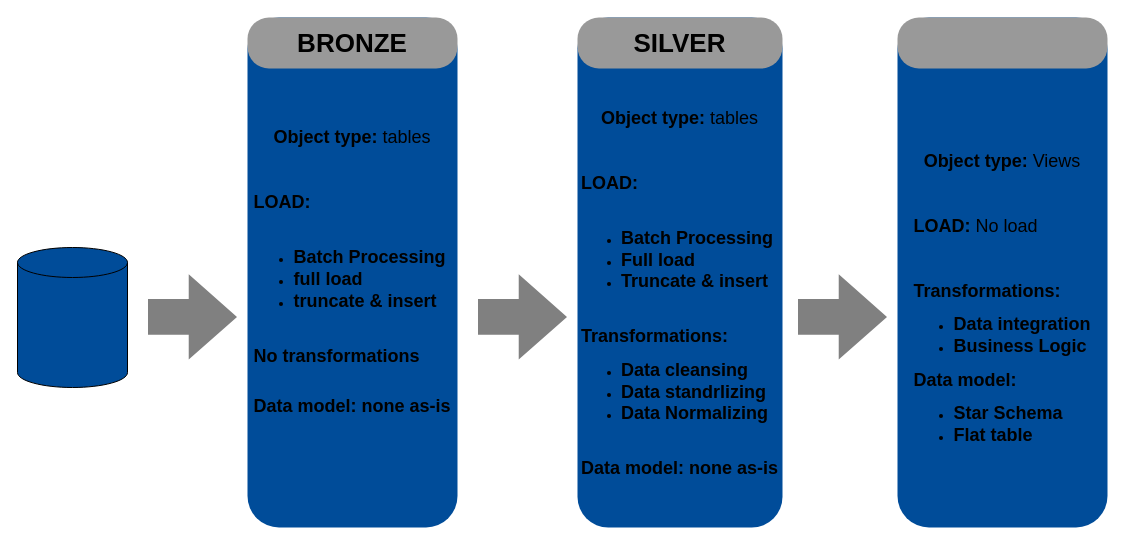
Image size: 1125x544. Some labels were removed from this diagram. The centre of each missing label's shape, as x and y in pixels:
GOLD: the point at 1002,42
RAW SOURCE .CSV: the point at 72,317
